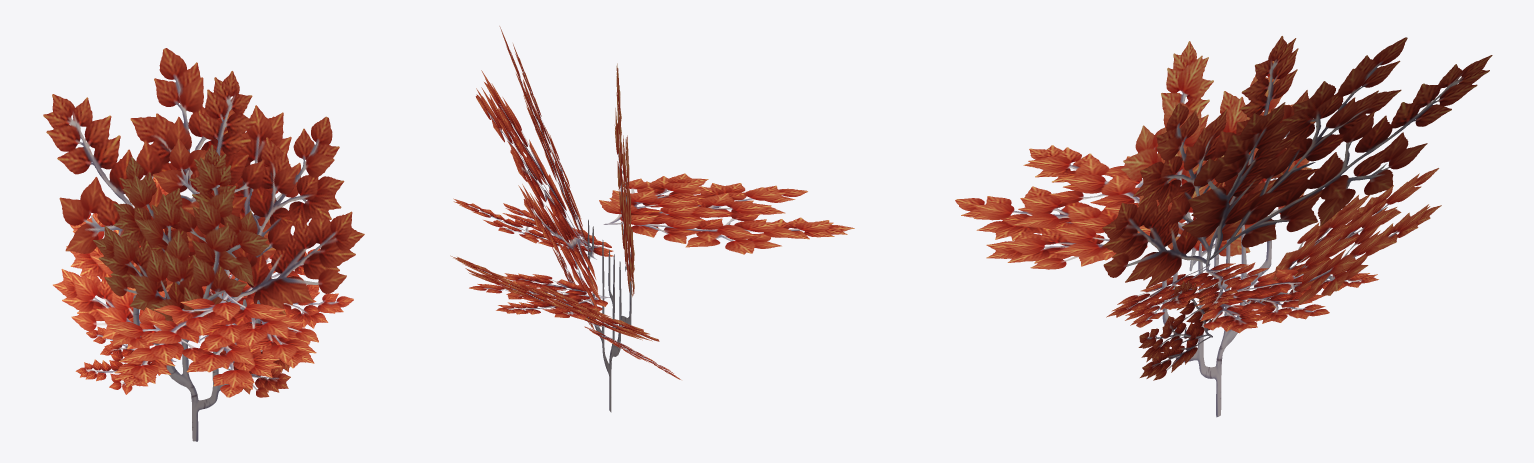
Rendered from Bush1.obj.
3 renders of one model, left to right at view 1: azimuth 30°, elevation 25°; view 2: azimuth 150°, elevation 25°; view 3: azimuth 270°, elevation 25°, orthographic. The views are drawn at different scales.
Parts seen in each view (by area): view 1: pPlane161; view 2: pPlane161; view 3: pPlane161.
Part boxes in pixels (bbox=[...]): pPlane161: bbox=[43, 48, 364, 441]; pPlane161: bbox=[450, 26, 854, 412]; pPlane161: bbox=[955, 36, 1492, 417].
Bounding box in the file's own units: 23.21 × 25.09 × 30.95.
